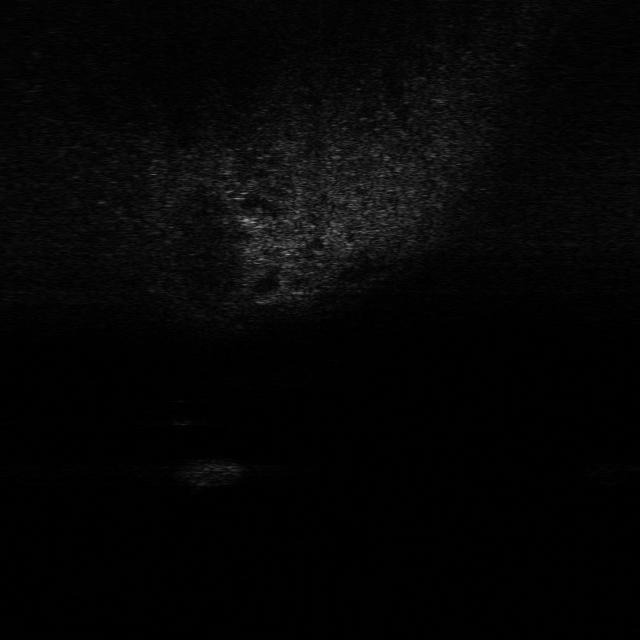ball: (163, 397, 197, 428)
circle cage: (180, 457, 252, 489)
